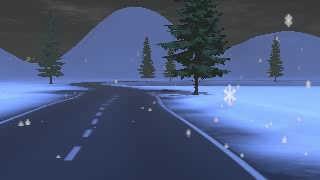Lane: (0, 82, 264, 179)
